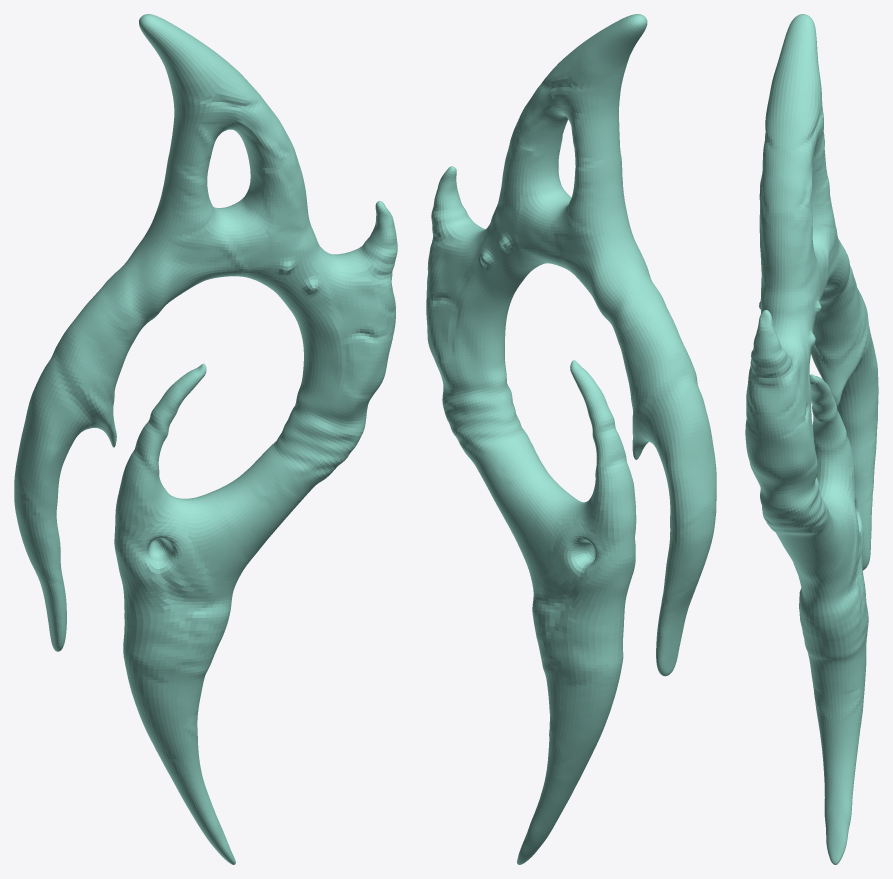
The model's file is blueelixir.fbx.
3 views of the same model, side by side, from view 1: azimuth 30°, elevation 25°; view 2: azimuth 150°, elevation 25°; view 3: azimuth 270°, elevation 25° (orthographic). The views are drawn at different scales.
Parts seen in each view (by area): view 1: elixirlow:ZBrush_defualt_group; view 2: elixirlow:ZBrush_defualt_group; view 3: elixirlow:ZBrush_defualt_group.
Part boxes in pixels (box(x1,y1,x2,y2)): elixirlow:ZBrush_defualt_group: box(14, 14, 397, 864); elixirlow:ZBrush_defualt_group: box(426, 14, 716, 864); elixirlow:ZBrush_defualt_group: box(745, 14, 878, 864).
Bounding box in the file's own units: 58.25 × 149 × 22.37.
